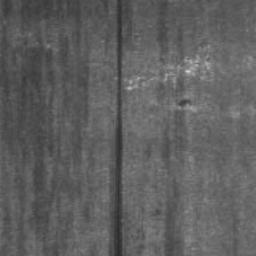Scratches: (108, 0, 124, 256)
